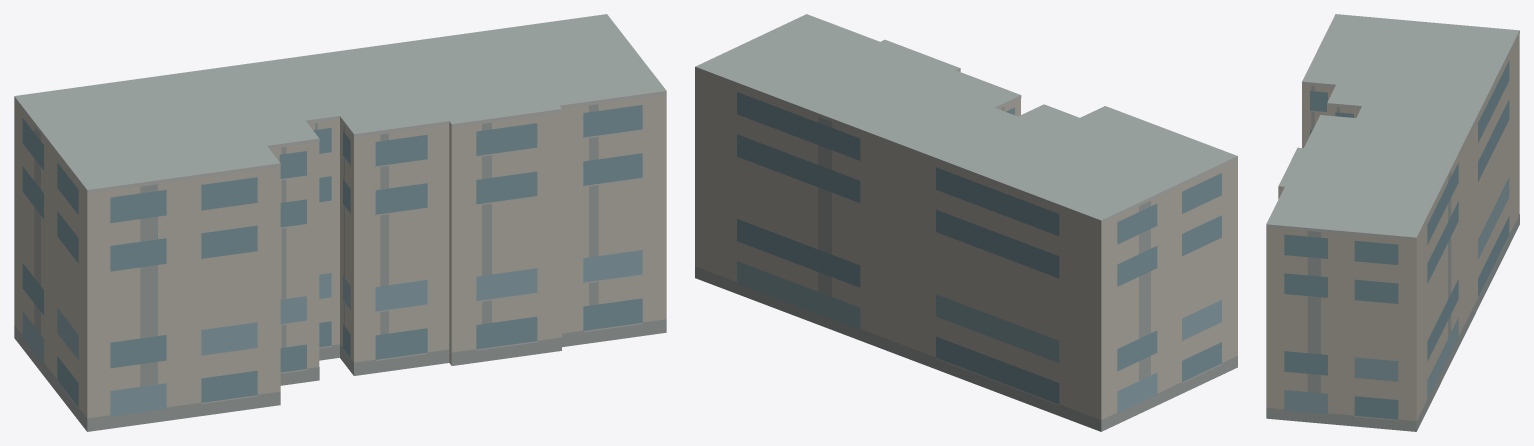
File: residential-c2032fb6-c1bc-4694-b410-3a1460c8a501.glb
The picture shows the model from 3 angles, left to right: view 1: azimuth 30°, elevation 25°; view 2: azimuth 150°, elevation 25°; view 3: azimuth 270°, elevation 25°; orthographic projection. The views are drawn at different scales.
Visible parts, largest first — view 1: residential-c2032fb6-c1bc-4694-b410-3a1460c8a501.tmp; view 2: residential-c2032fb6-c1bc-4694-b410-3a1460c8a501.tmp; view 3: residential-c2032fb6-c1bc-4694-b410-3a1460c8a501.tmp.
Part boxes in pixels (left/top/right/bottom): residential-c2032fb6-c1bc-4694-b410-3a1460c8a501.tmp: left=14, top=14, right=666, bottom=431; residential-c2032fb6-c1bc-4694-b410-3a1460c8a501.tmp: left=695, top=14, right=1237, bottom=431; residential-c2032fb6-c1bc-4694-b410-3a1460c8a501.tmp: left=1266, top=14, right=1519, bottom=431.
Size of the model in its own units: 37.64 by 15.25 by 18.05.
